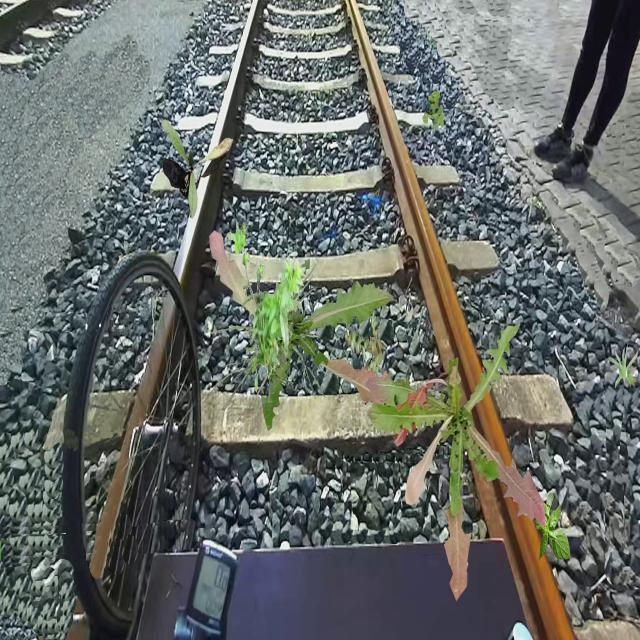Plant: (366, 324, 546, 602), (209, 230, 402, 432), (208, 264, 326, 428), (241, 249, 306, 392), (162, 119, 233, 218), (344, 309, 386, 381), (530, 492, 572, 563), (606, 343, 638, 389), (423, 90, 447, 131), (227, 223, 248, 256)
